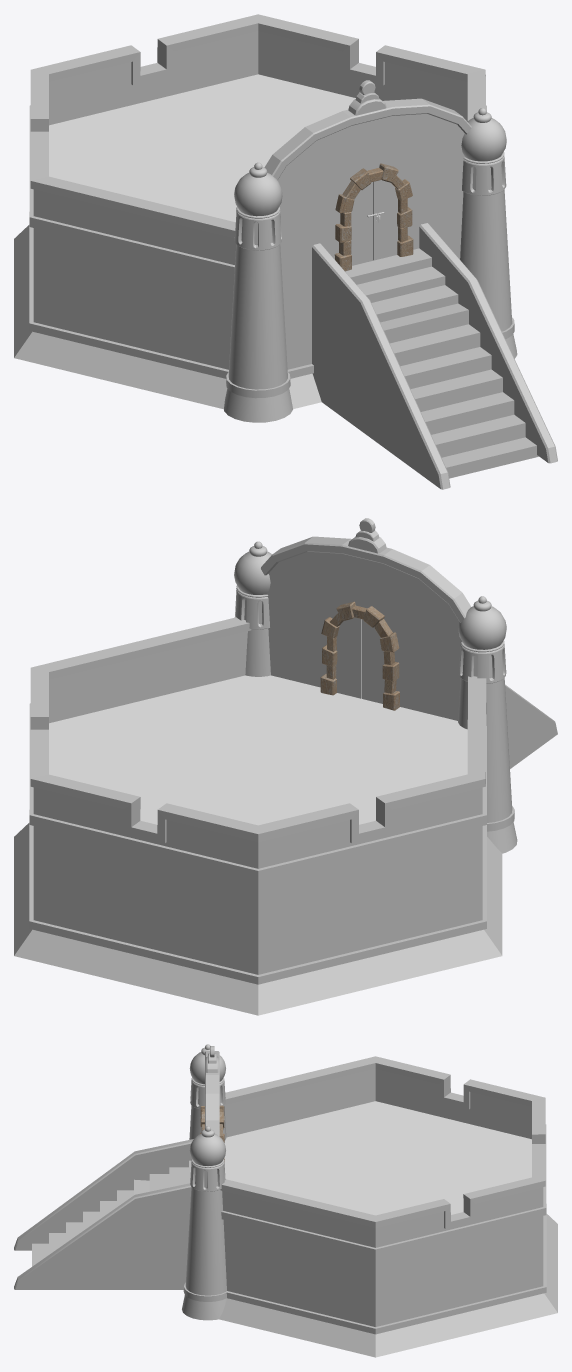
The model's file is Tower2LODsSamples.fbx.
3 renders of one model, top to bottom at view 1: azimuth 30°, elevation 25°; view 2: azimuth 150°, elevation 25°; view 3: azimuth 270°, elevation 25°, orthographic. The views are drawn at different scales.
Visible parts, largest first — view 1: TowerUnityLOD0; view 2: TowerUnityLOD0; view 3: TowerUnityLOD0.
Part boxes in pixels (x1,y1,x2,y2): TowerUnityLOD0: (14, 14, 557, 489); TowerUnityLOD0: (14, 518, 557, 1015); TowerUnityLOD0: (14, 1044, 557, 1357).
Size of what is drawn, in the model's own units: 2060 by 1207 by 2660.
